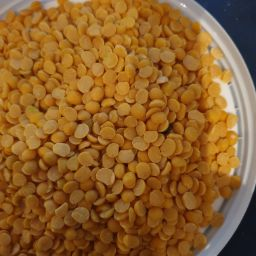Pigeon Pea(toor daal): (3, 4, 250, 256), (34, 28, 218, 256), (15, 39, 146, 256)
